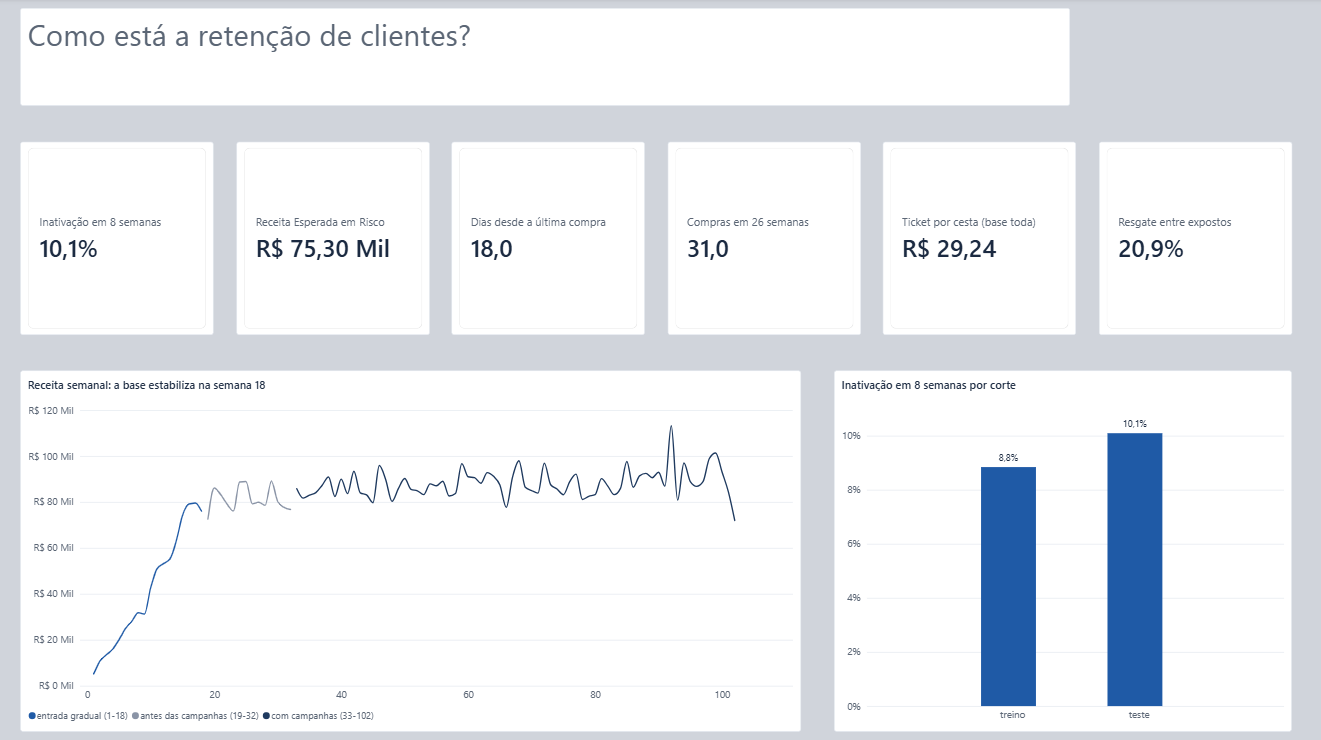

What the dashboard file says about the page in this screenshot:
{"tool":"powerbi","page":{"name":"Página 1","canvas":[1920,1080],"ordinal":0},"visuals":[{"type":"cardVisual","title":"Inativação em 8 semanas","fields":{"Data":["_Medidas.Taxa de Inativação"]},"box":[30.8,207.7,280,280],"z":0},{"type":"lineChart","title":"Receita semanal: a base estabiliza na semana 18","fields":{"Category":["dim_semana.week_no"],"Series":["dim_semana.periodo"],"Y":["_Medidas.Receita"]},"box":[30.8,539.6,1131.5,523.3],"z":1000},{"type":"cardVisual","fields":{"Data":["_Medidas.Receita Esperada em Risco"]},"box":[343.2,207.7,280,280],"z":2000},{"type":"columnChart","title":"Inativação em 8 semanas por corte","fields":{"Category":["fato_domicilio_corte.corte"],"Y":["_Medidas.Taxa de Inativação"]},"box":[1209.1,539.6,663.4,523.3],"z":3000},{"type":"cardVisual","fields":{"Data":["_Medidas.Recência Média (dias)"]},"box":[655.7,207.7,280,280],"z":4000},{"type":"textbox","box":[30.8,14.5,1521.2,141.2],"z":5000},{"type":"cardVisual","fields":{"Data":["_Medidas.Frequência Média"]},"box":[968.1,207.7,280,280],"z":6000},{"type":"cardVisual","fields":{"Data":["_Medidas.Ticket Médio"]},"box":[1280.6,207.7,280,280],"z":7000},{"type":"cardVisual","fields":{"Data":["_Medidas.Taxa de Resgate (expostos)"]},"box":[1593.1,207.7,280,280],"z":8000}]}

Visuals, with their boxes in screenshot pixels (x1, y1, x2, y2), scaled from the page's 1920x1080 canvas onto the 1321x740 screenshot:
"Inativação em 8 semanas" cardVisual: pyautogui.locateOnScreen(21, 142, 214, 334)
"Receita semanal: a base estabiliza na semana 18" lineChart: pyautogui.locateOnScreen(21, 370, 800, 728)
cardVisual - _Medidas.Receita Esperada em Risco: pyautogui.locateOnScreen(236, 142, 429, 334)
"Inativação em 8 semanas por corte" columnChart: pyautogui.locateOnScreen(832, 370, 1288, 728)
cardVisual - _Medidas.Recência Média (dias): pyautogui.locateOnScreen(451, 142, 644, 334)
textbox: pyautogui.locateOnScreen(21, 10, 1068, 107)
cardVisual - _Medidas.Frequência Média: pyautogui.locateOnScreen(666, 142, 859, 334)
cardVisual - _Medidas.Ticket Médio: pyautogui.locateOnScreen(881, 142, 1074, 334)
cardVisual - _Medidas.Taxa de Resgate (expostos): pyautogui.locateOnScreen(1096, 142, 1289, 334)
